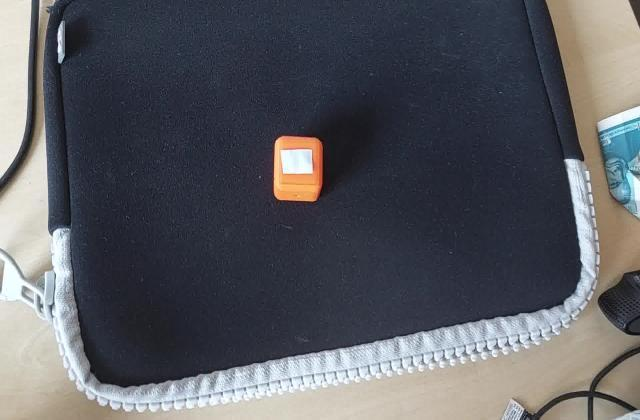sticker: (270, 136, 324, 206)
white: (278, 148, 318, 178)
